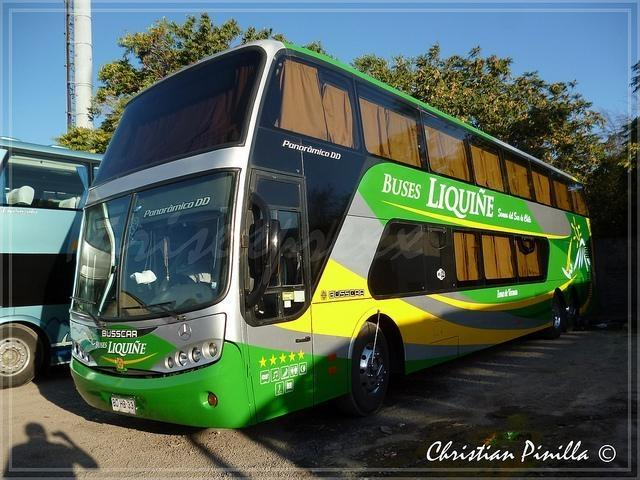bus: (63, 40, 602, 446), (0, 135, 93, 391)
